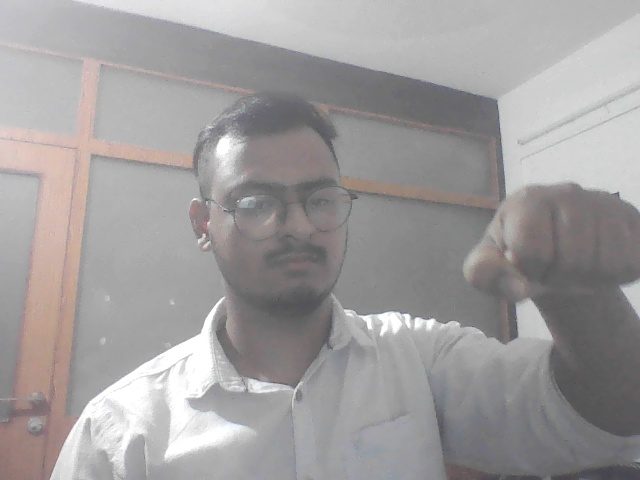YES: (459, 180, 640, 303)
